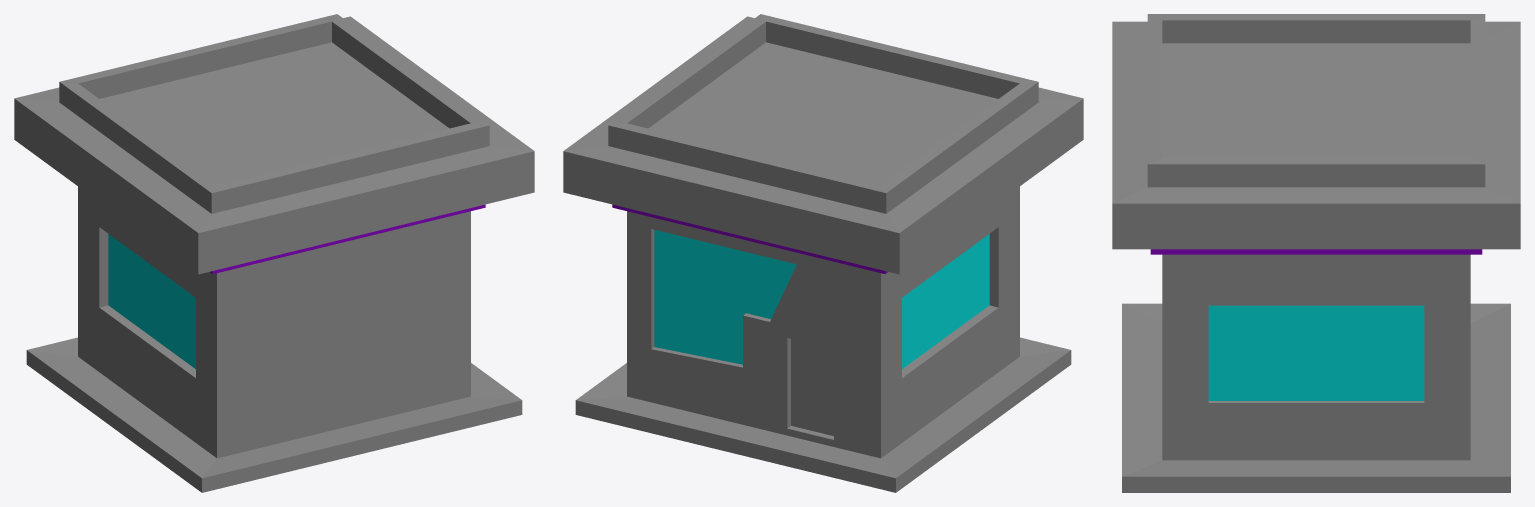
File: Building4.fbx
3 renders of one model, left to right at view 1: azimuth 30°, elevation 25°; view 2: azimuth 150°, elevation 25°; view 3: azimuth 270°, elevation 25°, orthographic. The views are drawn at different scales.
Visible parts, largest first — view 1: Building5; view 2: Building5; view 3: Building5.
Part boxes in pixels (x1,y1,x2,y2): Building5: (14, 14, 534, 492); Building5: (563, 14, 1083, 492); Building5: (1112, 14, 1520, 492).
Size of the model in its own units: 12.83 by 10.44 by 12.17.
